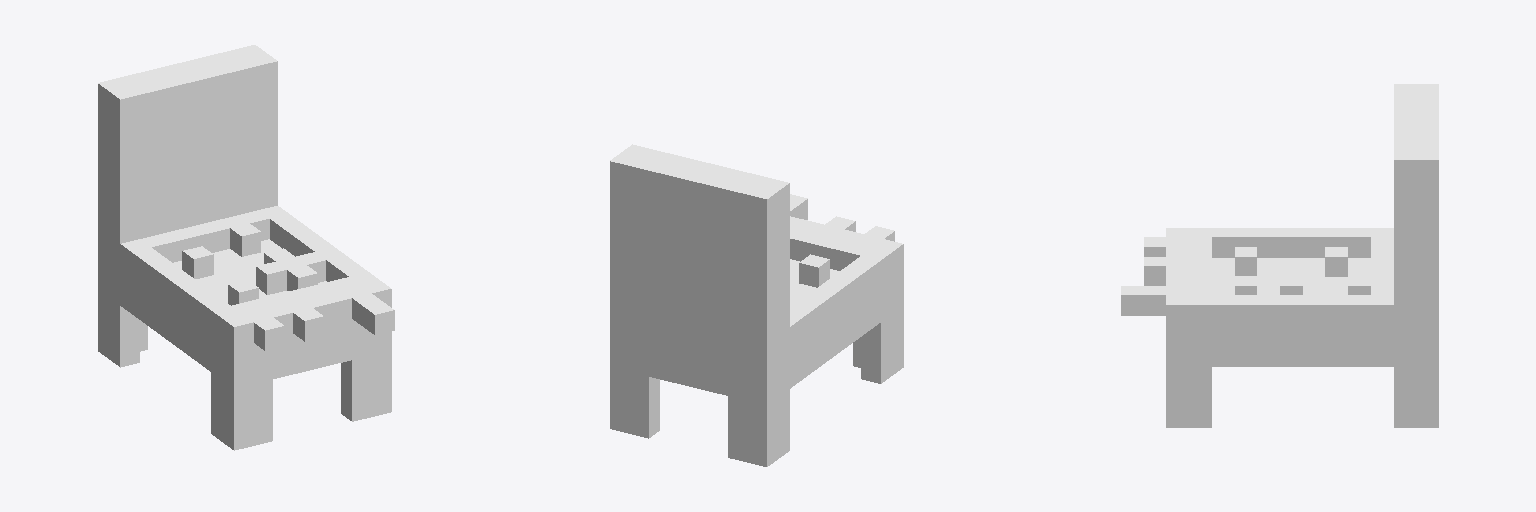
Rendered from pinball_machine.obj.
3 views of the same model, side by side, from view 1: azimuth 30°, elevation 25°; view 2: azimuth 150°, elevation 25°; view 3: azimuth 270°, elevation 25° (orthographic).
Parts seen in each view (by area): view 1: pinball_machine; view 2: pinball_machine; view 3: pinball_machine.
Part boxes in pixels (left/top/right/bottom): pinball_machine: left=98, top=45, right=394, bottom=450; pinball_machine: left=610, top=144, right=903, bottom=466; pinball_machine: left=1121, top=84, right=1438, bottom=427.
Bounding box in the file's own units: 8 × 13 × 14.